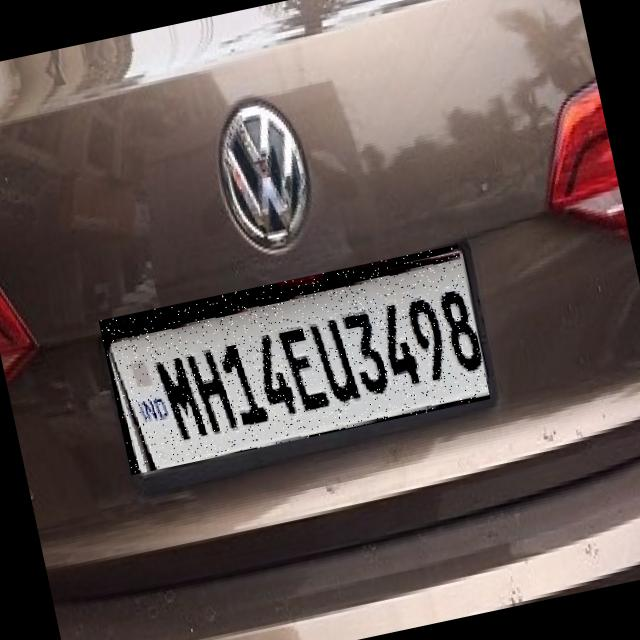Plate: (99, 245, 491, 476)
